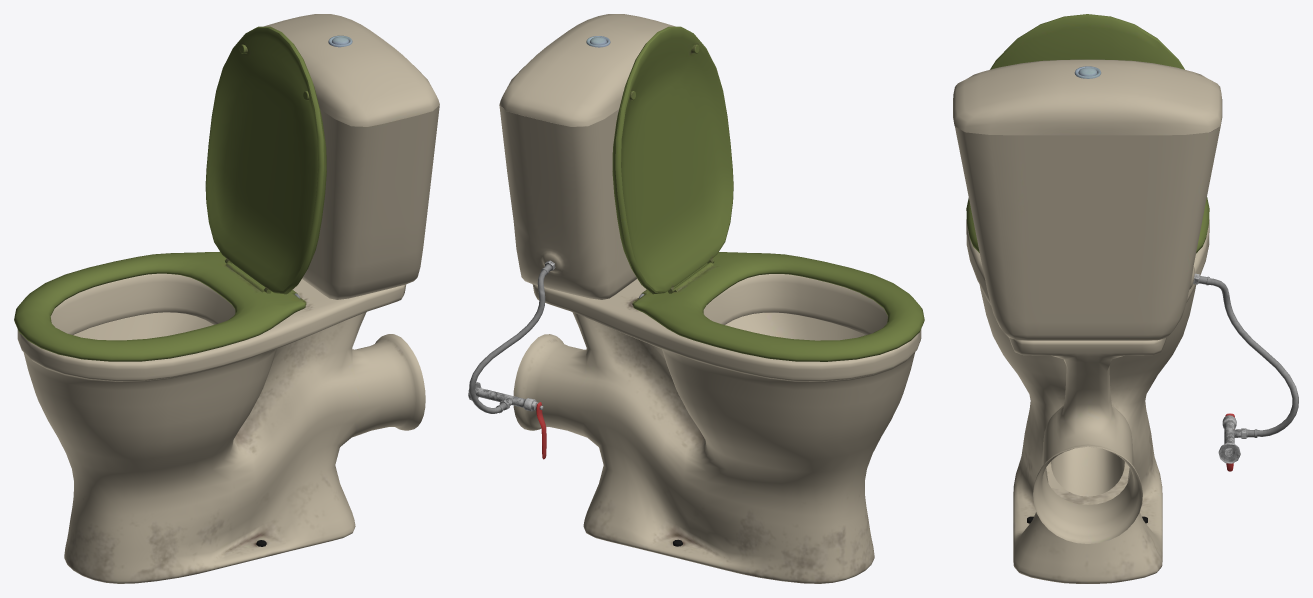
The model's file is toilet.glb.
The picture shows the model from 3 angles, left to right: view 1: azimuth 30°, elevation 25°; view 2: azimuth 150°, elevation 25°; view 3: azimuth 270°, elevation 25°; orthographic projection. The views are drawn at different scales.
Parts seen in each view (by area): view 1: Cube.001_low, Cube.007_low, Cube.008_low, Cube.006_low, Cube.003_low; view 2: Cube.001_low, Cube.007_low, Cube.008_low, Cube.006_low, Cube.003_low, BezierCurve_low; view 3: Cube.008_low, Cube.001_low, Cube.003_low, Cube.007_low, BezierCurve_low, Cylinder.011_low, Cube.006_low.
Part boxes in pixels (left/top/right/bottom): Cube.001_low: left=17, top=273, right=425, bottom=583; Cube.007_low: left=205, top=26, right=326, bottom=294; Cube.008_low: left=302, top=105, right=439, bottom=299; Cube.006_low: left=14, top=251, right=305, bottom=361; Cube.003_low: left=264, top=14, right=439, bottom=126; Cube.001_low: left=513, top=274, right=921, bottom=583; Cube.007_low: left=612, top=26, right=733, bottom=294; Cube.008_low: left=499, top=105, right=636, bottom=299; Cube.006_low: left=633, top=252, right=924, bottom=361; Cube.003_low: left=499, top=14, right=675, bottom=126; BezierCurve_low: left=469, top=269, right=546, bottom=413; Cube.008_low: left=955, top=99, right=1222, bottom=340; Cube.001_low: left=966, top=219, right=1209, bottom=583; Cube.003_low: left=953, top=59, right=1221, bottom=135; Cube.007_low: left=990, top=14, right=1184, bottom=69; BezierCurve_low: left=1209, top=278, right=1298, bottom=436; Cylinder.011_low: left=1218, top=421, right=1241, bottom=463; Cube.006_low: left=966, top=197, right=1209, bottom=253.
Bounding box in the file's own units: 59.75 × 74.87 × 43.49.
Materials: 1 (1 with a texture image).
